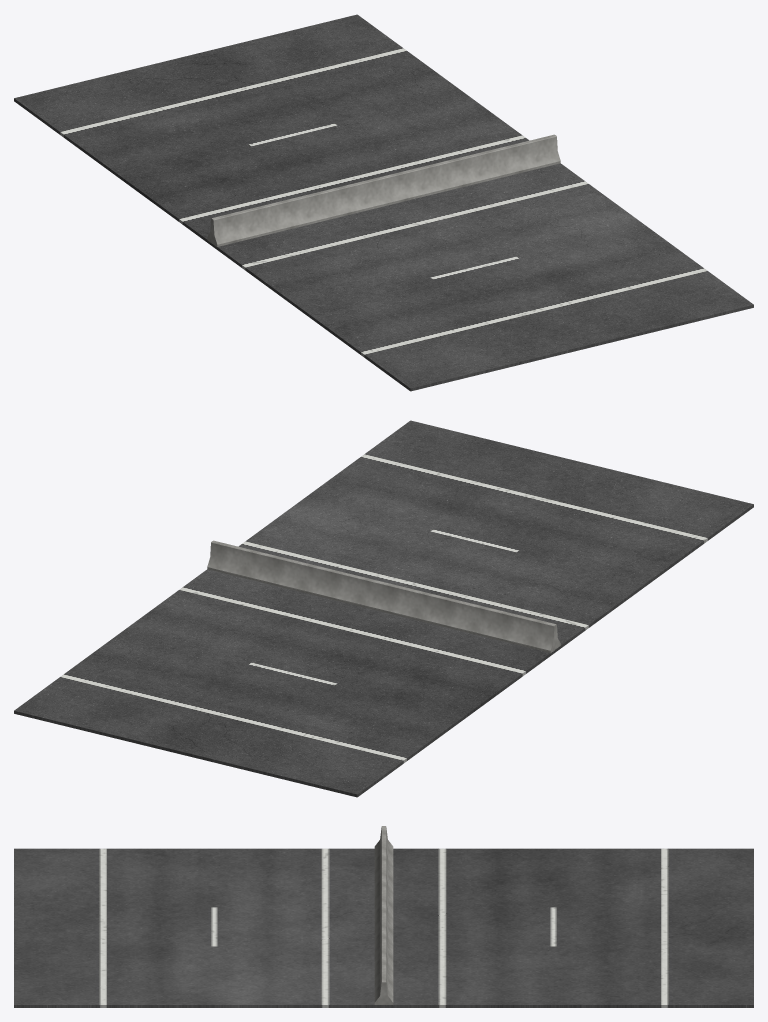
The model's file is four-lane-divided-road.glb.
3 renders of one model, top to bottom at view 1: azimuth 30°, elevation 25°; view 2: azimuth 150°, elevation 25°; view 3: azimuth 270°, elevation 25°, orthographic. The views are drawn at different scales.
Visible parts, largest first — view 1: Asphalt carriageway, Concrete median barrier; view 2: Asphalt carriageway, Concrete median barrier; view 3: Asphalt carriageway, Concrete median barrier.
Boxes of the visible parts, box(x1,y1,x2,y2) form: Asphalt carriageway: box(14, 14, 753, 391); Concrete median barrier: box(207, 134, 560, 246); Asphalt carriageway: box(14, 420, 753, 797); Concrete median barrier: box(207, 540, 560, 653); Asphalt carriageway: box(14, 848, 753, 1007); Concrete median barrier: box(374, 826, 393, 1004).
Size of the model in its own units: 12 by 0.913 by 24.
Materials: 2 (2 with a texture image).
